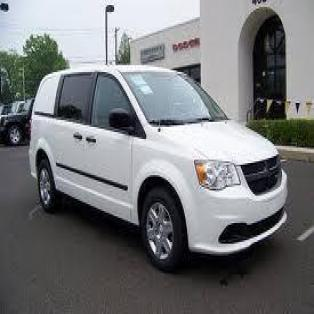Auto: (29, 65, 286, 264)
